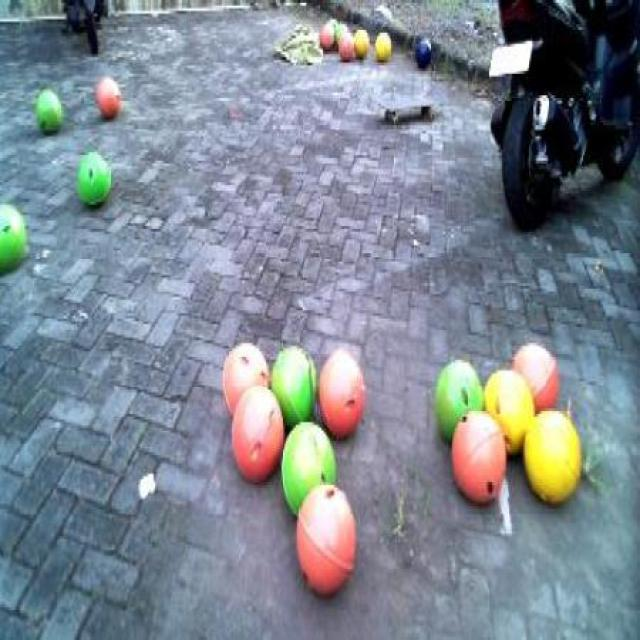buoy: (294, 476, 359, 602), (447, 405, 510, 512), (227, 376, 286, 487), (523, 404, 585, 508), (276, 417, 340, 512), (266, 332, 320, 433), (480, 365, 535, 460), (315, 342, 365, 443), (431, 348, 483, 444), (219, 334, 273, 416), (507, 336, 561, 414), (72, 146, 116, 217), (0, 193, 27, 283), (33, 84, 65, 138), (94, 73, 125, 123), (374, 26, 394, 66), (413, 33, 433, 71), (353, 27, 369, 60)
